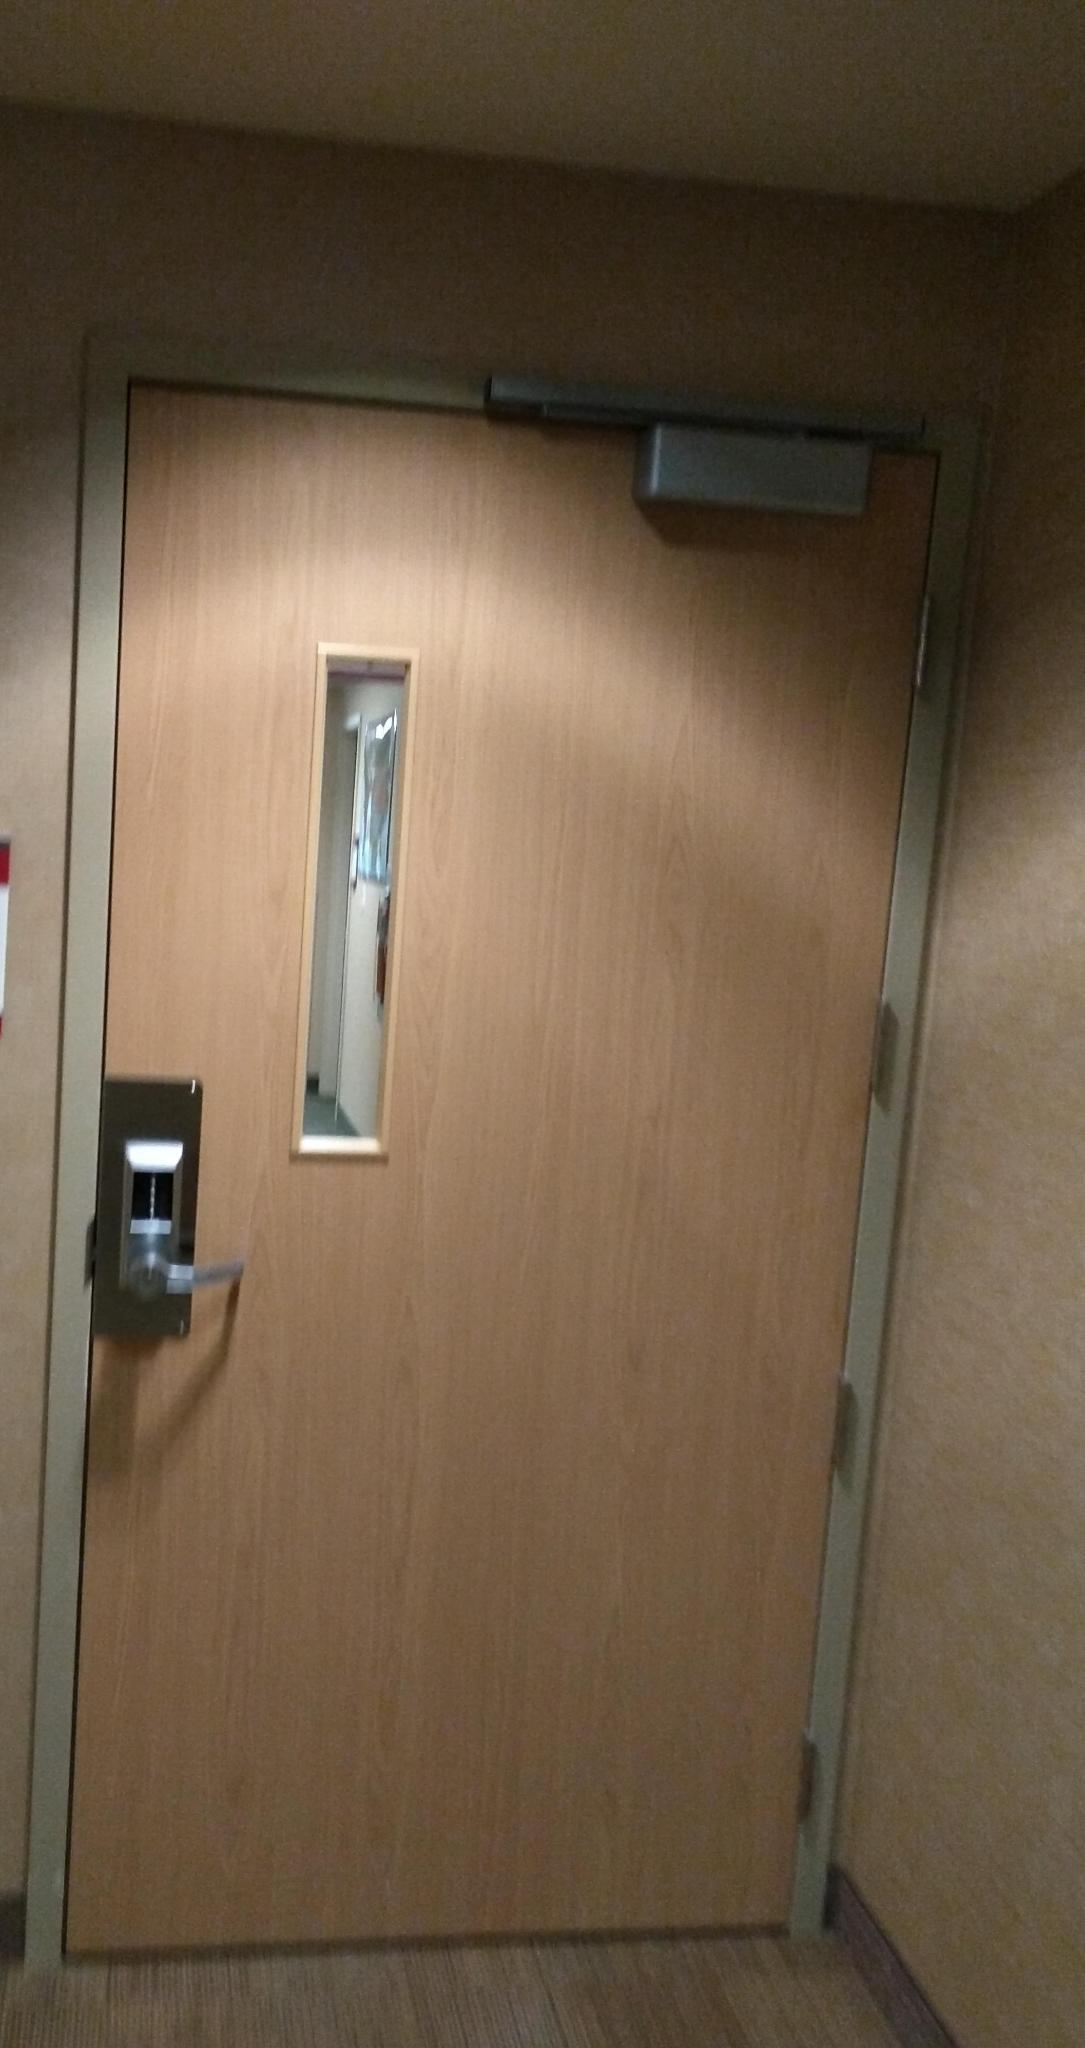door: (112, 497, 817, 1940)
handle: (129, 1223, 247, 1376)
